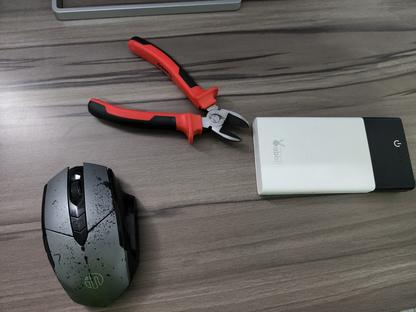mouse: (40, 161, 139, 308)
